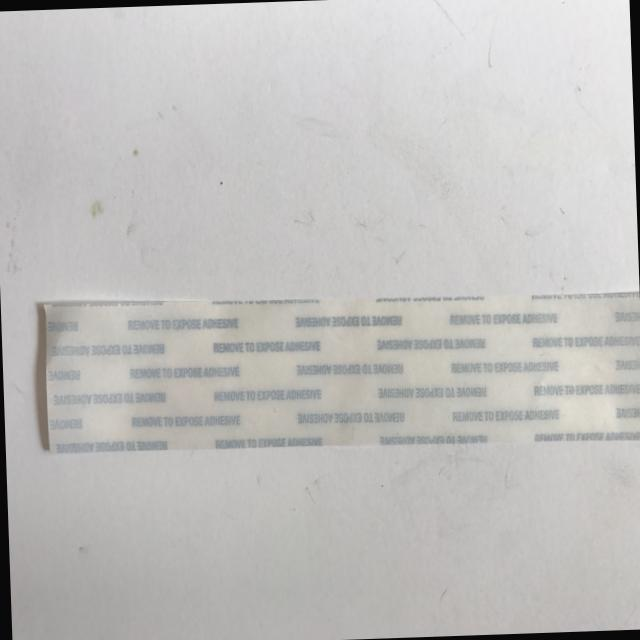Paper: (13, 234, 640, 500)
